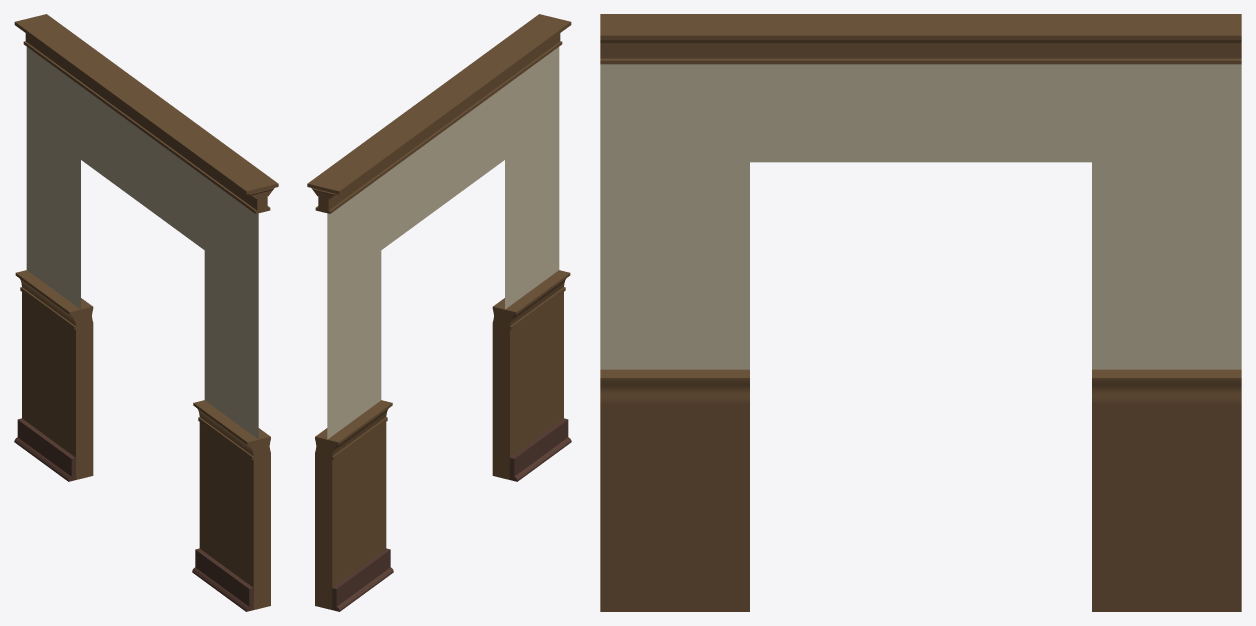
Rendered from SM_WallDoor_001.fbx.
The picture shows the model from 3 angles, left to right: view 1: azimuth 30°, elevation 25°; view 2: azimuth 150°, elevation 25°; view 3: azimuth 270°, elevation 25°; orthographic projection. The views are drawn at different scales.
Visible parts, largest first — view 1: polySurface4; view 2: polySurface4; view 3: polySurface4.
Boxes of the visible parts, x1,y1,x2,y2 form: polySurface4: [14, 14, 278, 611]; polySurface4: [307, 14, 571, 611]; polySurface4: [600, 14, 1241, 611].
Bounding box in the file's own units: 24.5 × 305 × 305.
